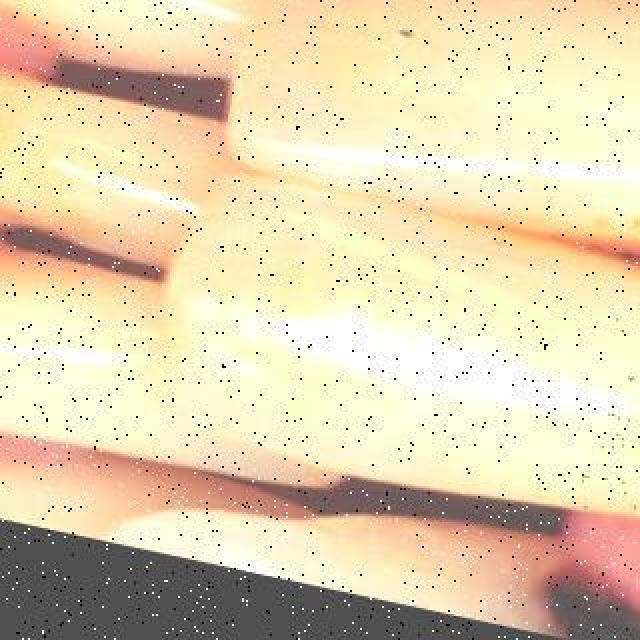cavities: (520, 514, 640, 640)
spacing: (255, 445, 603, 571), (2, 0, 278, 152), (0, 193, 216, 337), (434, 0, 640, 58)
